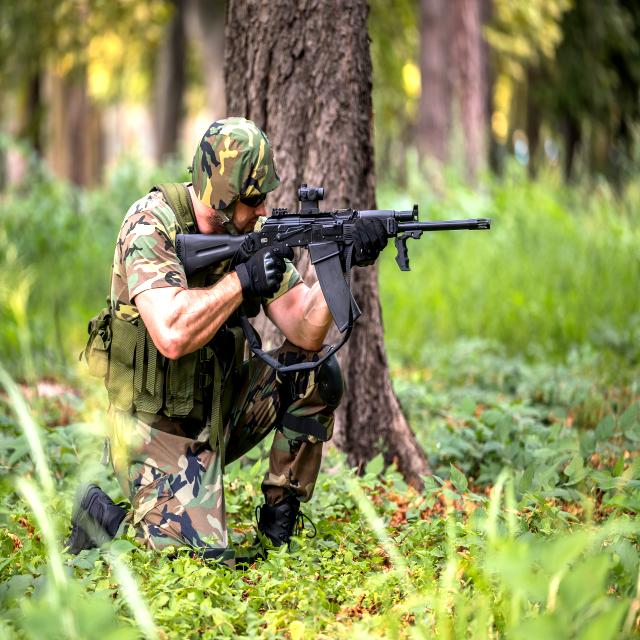rifle: (178, 177, 511, 309)
